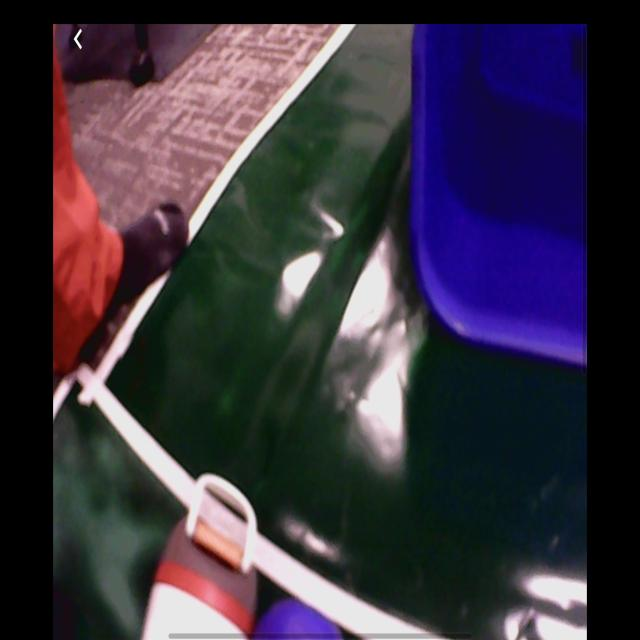ball: (256, 597, 344, 640)
